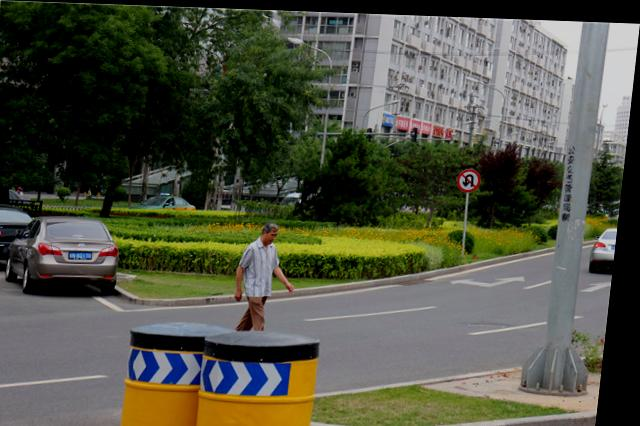not_u_turn_left: (457, 163, 486, 190)
